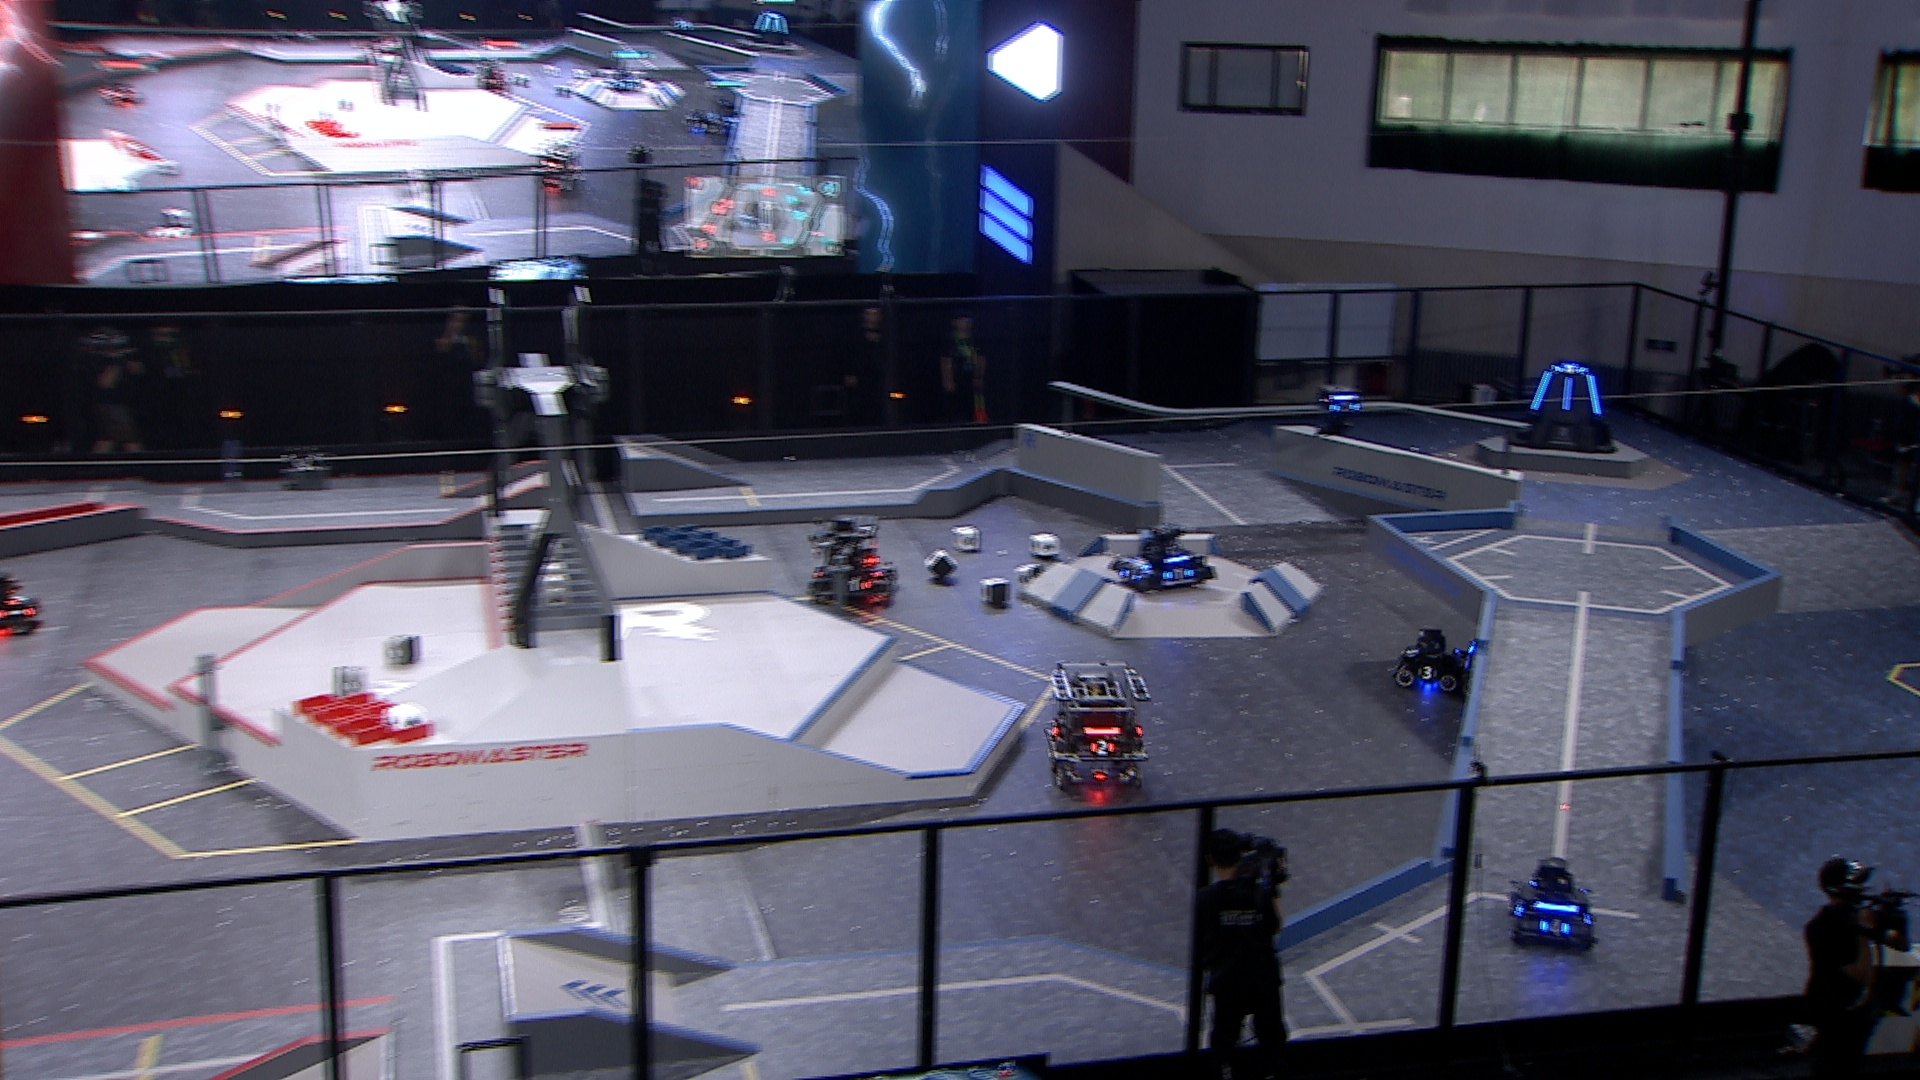armor: (1531, 371, 1553, 411), (1586, 371, 1604, 418), (1538, 916, 1572, 936), (1160, 566, 1195, 583), (841, 575, 873, 593), (1560, 376, 1575, 415), (1329, 401, 1362, 417), (1091, 738, 1117, 756), (1551, 363, 1586, 375), (3, 591, 29, 607), (1117, 564, 1138, 584), (1044, 717, 1060, 738), (1418, 665, 1436, 680), (1404, 644, 1422, 659)
base: (1506, 360, 1619, 455)
car: (1043, 659, 1154, 790), (1506, 855, 1598, 953), (804, 513, 901, 605), (1105, 524, 1218, 597), (1395, 626, 1462, 694)
ignore: (531, 140, 584, 193), (683, 98, 736, 135), (746, 11, 793, 46), (95, 74, 141, 102), (604, 65, 641, 91), (475, 58, 508, 87)
watcher: (1313, 386, 1365, 436)
